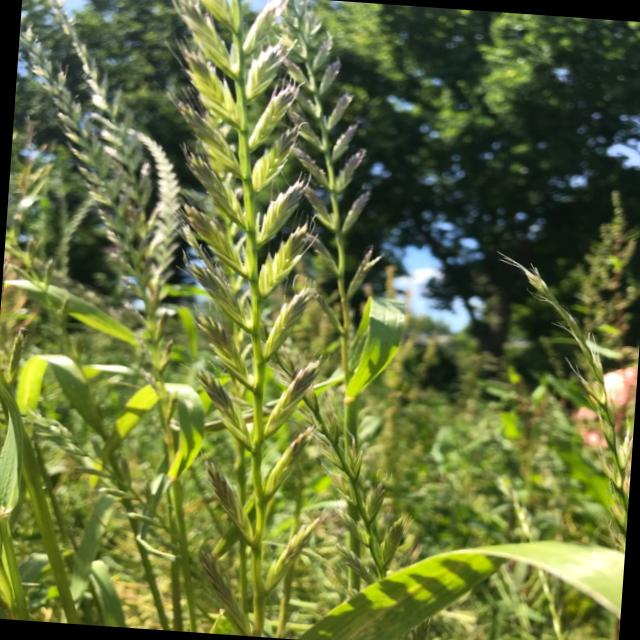Lolium: (160, 0, 308, 535), (2, 23, 174, 290), (240, 323, 407, 584), (251, 0, 378, 305), (489, 256, 640, 507), (31, 0, 157, 211), (105, 123, 188, 308)
